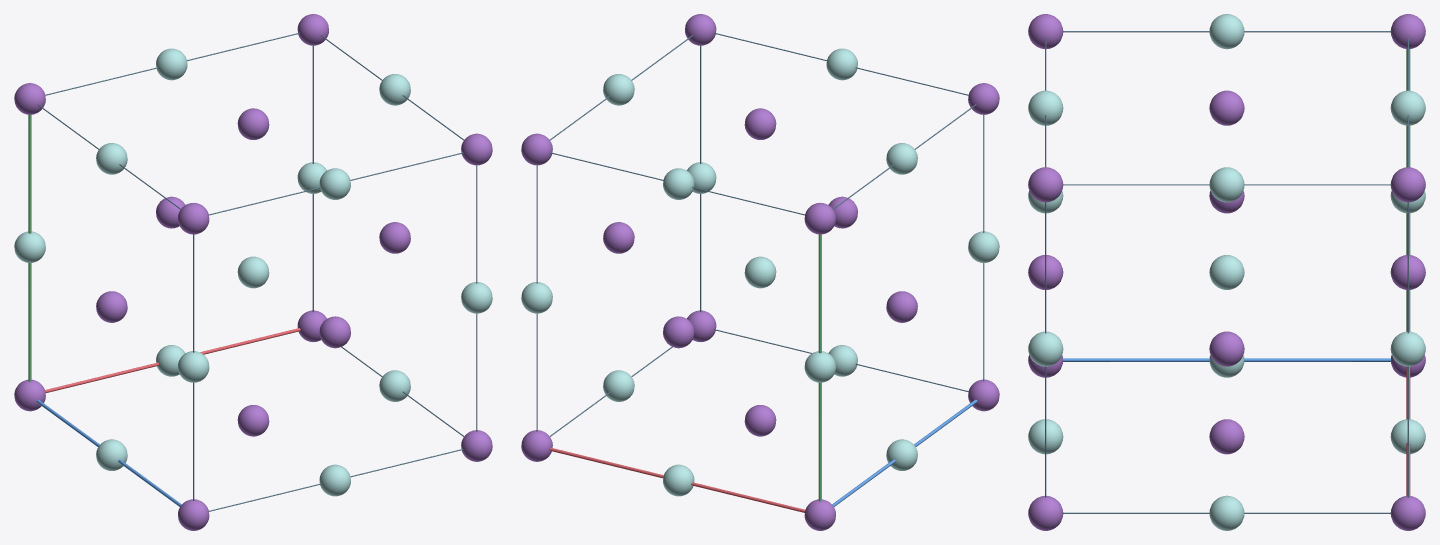
Rendered from chat-potassium-bromide.glb.
The picture shows the model from 3 angles, left to right: view 1: azimuth 30°, elevation 25°; view 2: azimuth 150°, elevation 25°; view 3: azimuth 270°, elevation 25°; orthographic projection. The views are drawn at different scales.
Parts seen in each view (by area): view 1: K · K · 1 (×14), Br · Br · 1 (×13), Ô mạng và các trục a, b, c; view 2: K · K · 1 (×14), Br · Br · 1 (×13), Ô mạng và các trục a, b, c; view 3: K · K · 1 (×11), Br · Br · 1 (×10), Ô mạng và các trục a, b, c.
Part boxes in pixels (x1=…): K · K · 1 (×14): x1=14, y1=14, x2=492, y2=530; Br · Br · 1 (×13): x1=14, y1=48, x2=492, y2=496; Ô mạng và các trục a, b, c: x1=28, y1=32, x2=477, y2=511; K · K · 1 (×14): x1=521, y1=14, x2=999, y2=530; Br · Br · 1 (×13): x1=521, y1=48, x2=999, y2=496; Ô mạng và các trục a, b, c: x1=536, y1=32, x2=984, y2=512; K · K · 1 (×11): x1=1028, y1=14, x2=1425, y2=530; Br · Br · 1 (×10): x1=1028, y1=14, x2=1425, y2=530; Ô mạng và các trục a, b, c: x1=1045, y1=31, x2=1410, y2=513.
Bounding box in the file's own units: 7.22 × 7.22 × 7.22.
